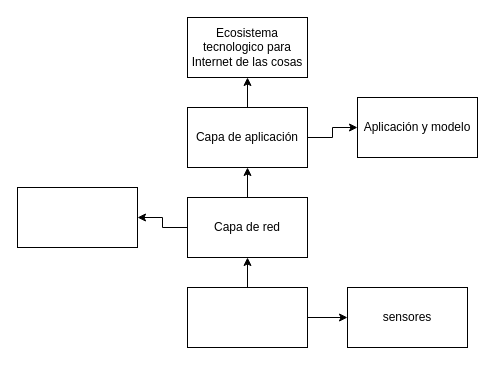
The diagram is 495 pixels wide and 365 high, and some of its shapes have lost their labels. The centre of each missing label's shape, as x and y in pixels:
Capa fisica: (x=247, y=317)
servicios: (x=77, y=217)
